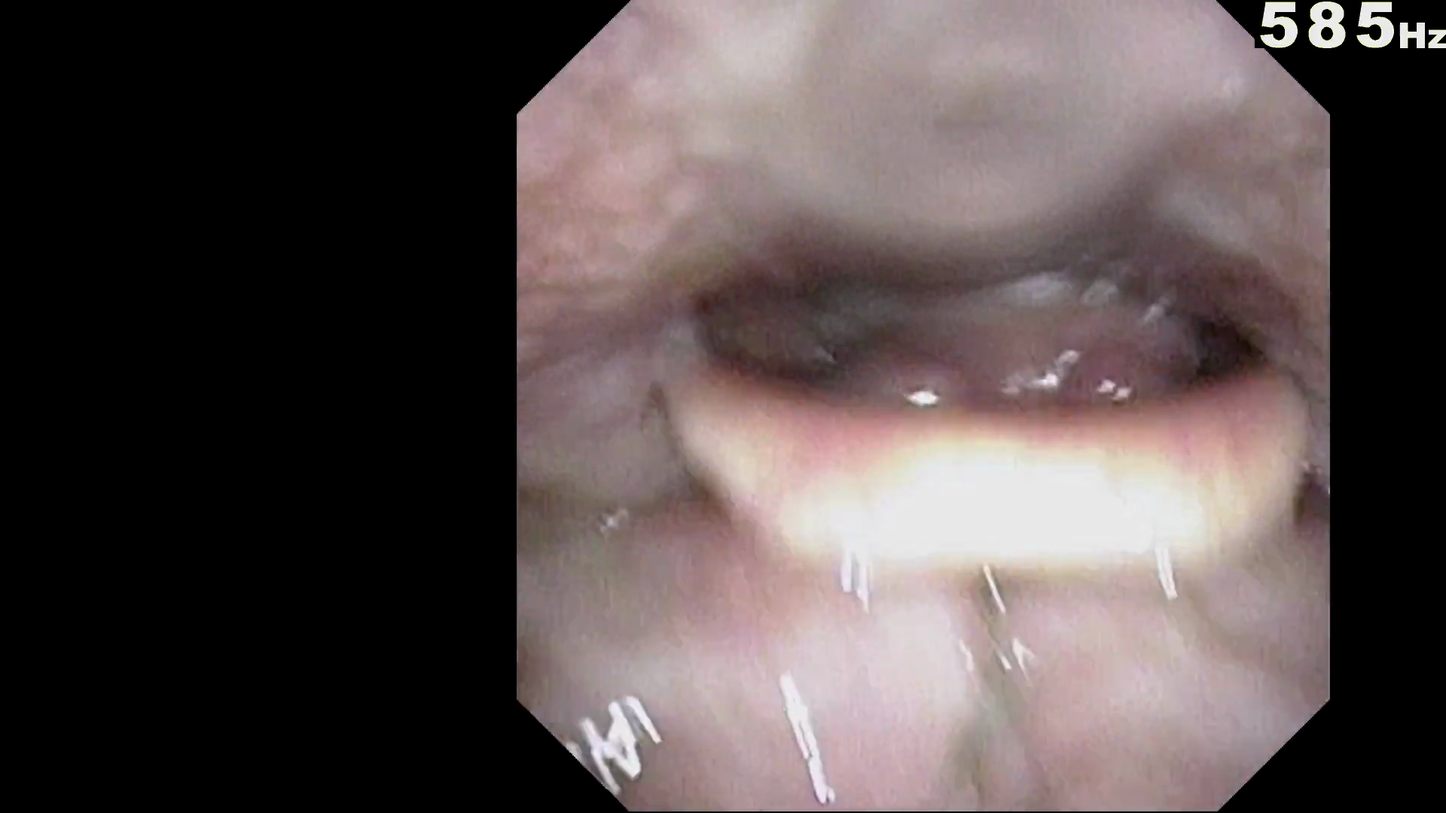epiglottis: (655, 367, 1322, 668)
